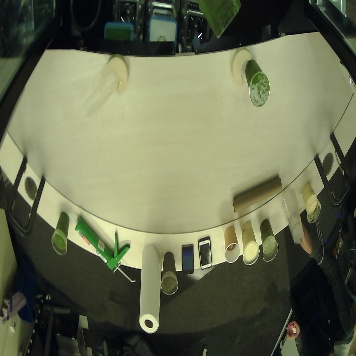coffee_cup: (222, 220, 241, 272)
empty_cup: (282, 185, 306, 249), (89, 63, 119, 107)
full_cup: (242, 54, 279, 112), (48, 206, 76, 264), (157, 245, 183, 298), (240, 218, 262, 270), (300, 180, 325, 225), (260, 215, 280, 266)
puck: (229, 45, 253, 90), (107, 52, 132, 93)
